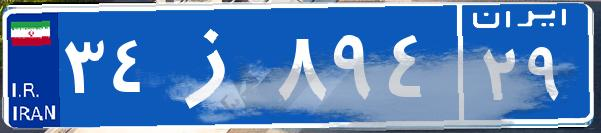2: (475, 38, 525, 113)
3: (57, 26, 110, 107)
4: (385, 28, 445, 110), (110, 28, 158, 105)
8: (273, 28, 330, 110)
9: (330, 28, 385, 110), (525, 38, 570, 115)
ز: (158, 15, 273, 115)
